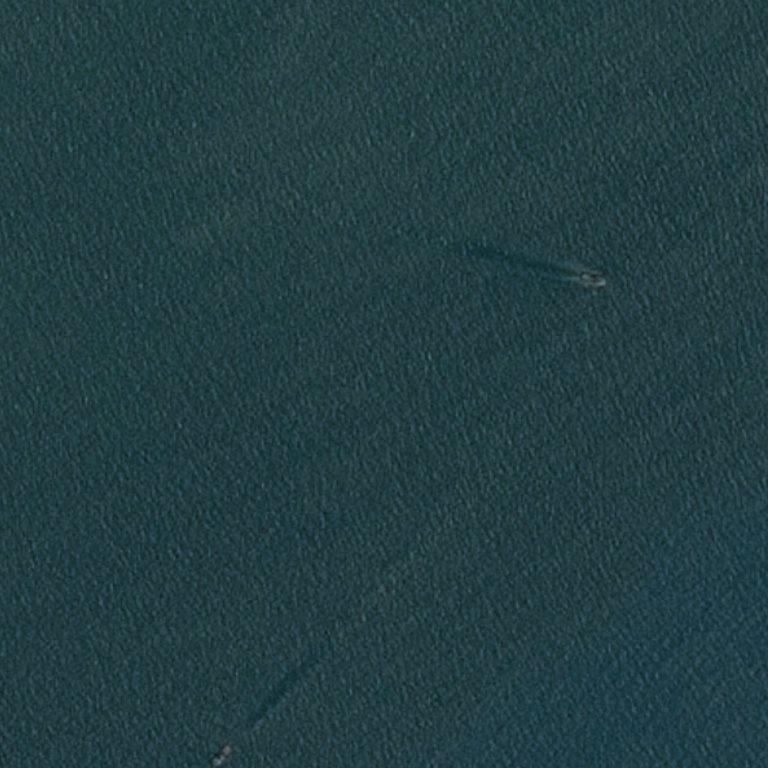ship: (203, 738, 239, 767), (577, 268, 610, 291), (602, 281, 606, 285), (582, 271, 586, 275), (582, 49, 585, 52), (210, 765, 214, 767), (2, 750, 2, 751), (73, 742, 73, 745)
